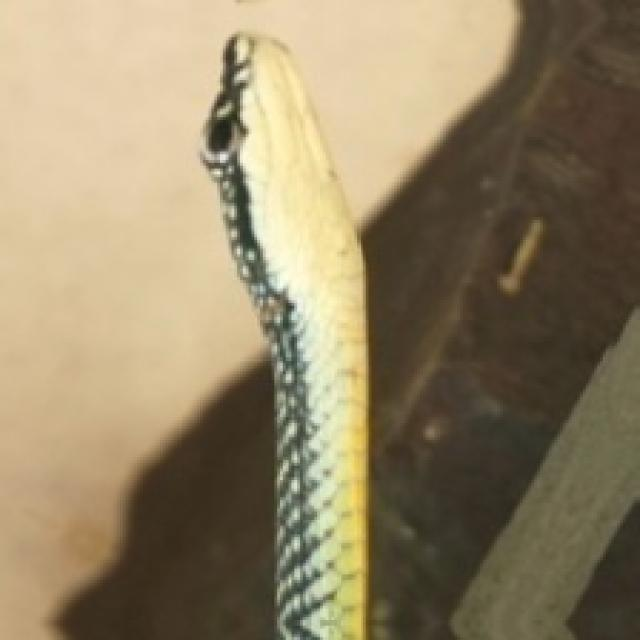paradise tree snake: (363, 0, 637, 637), (203, 34, 366, 637), (571, 514, 637, 637)
